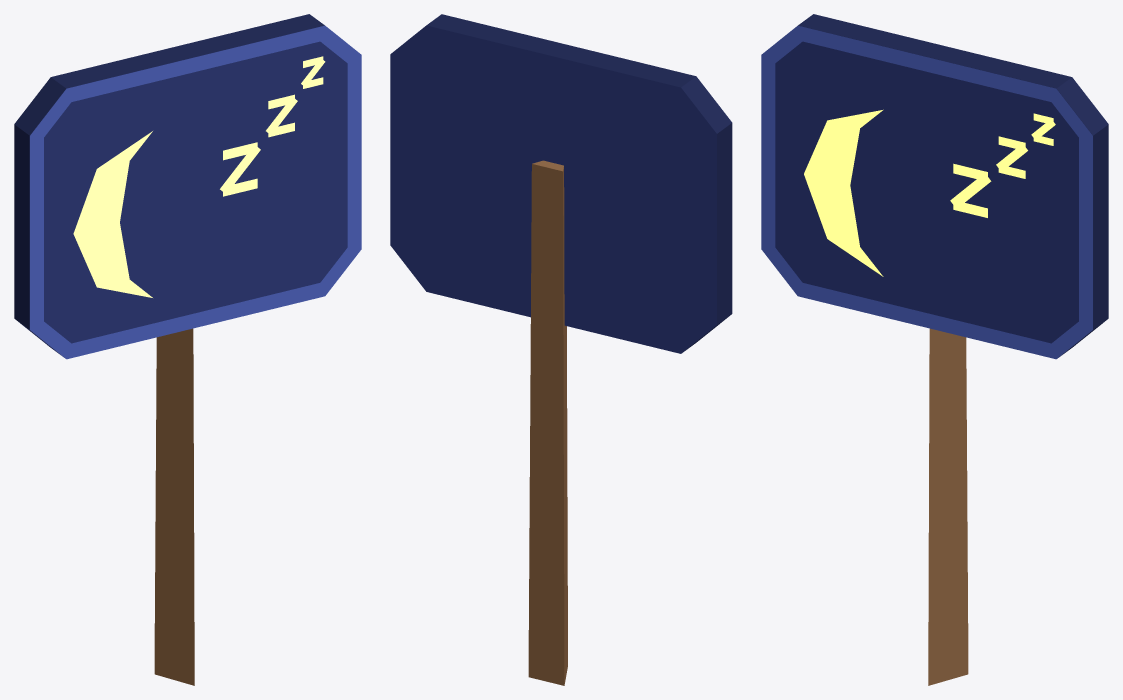
File: sign-hush.glb
3 views of the same model, side by side, from view 1: azimuth 30°, elevation 25°; view 2: azimuth 150°, elevation 25°; view 3: azimuth 330°, elevation 25° (orthographic).
Visible parts, largest first — view 1: sign-hush; view 2: sign-hush; view 3: sign-hush.
Part boxes in pixels (x1,y1,x2,y2): sign-hush: (14, 14, 361, 685); sign-hush: (390, 14, 732, 685); sign-hush: (761, 14, 1108, 685).
Bounding box in the file's own units: 1.18 × 2.14 × 0.145.
